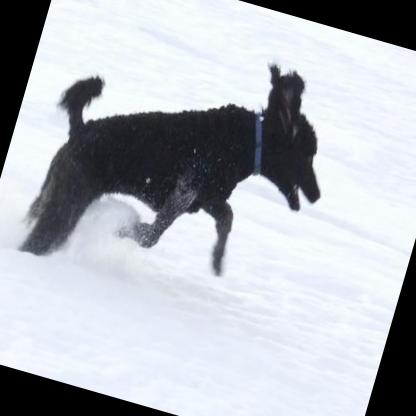standard_poodle: (14, 7, 352, 328)
